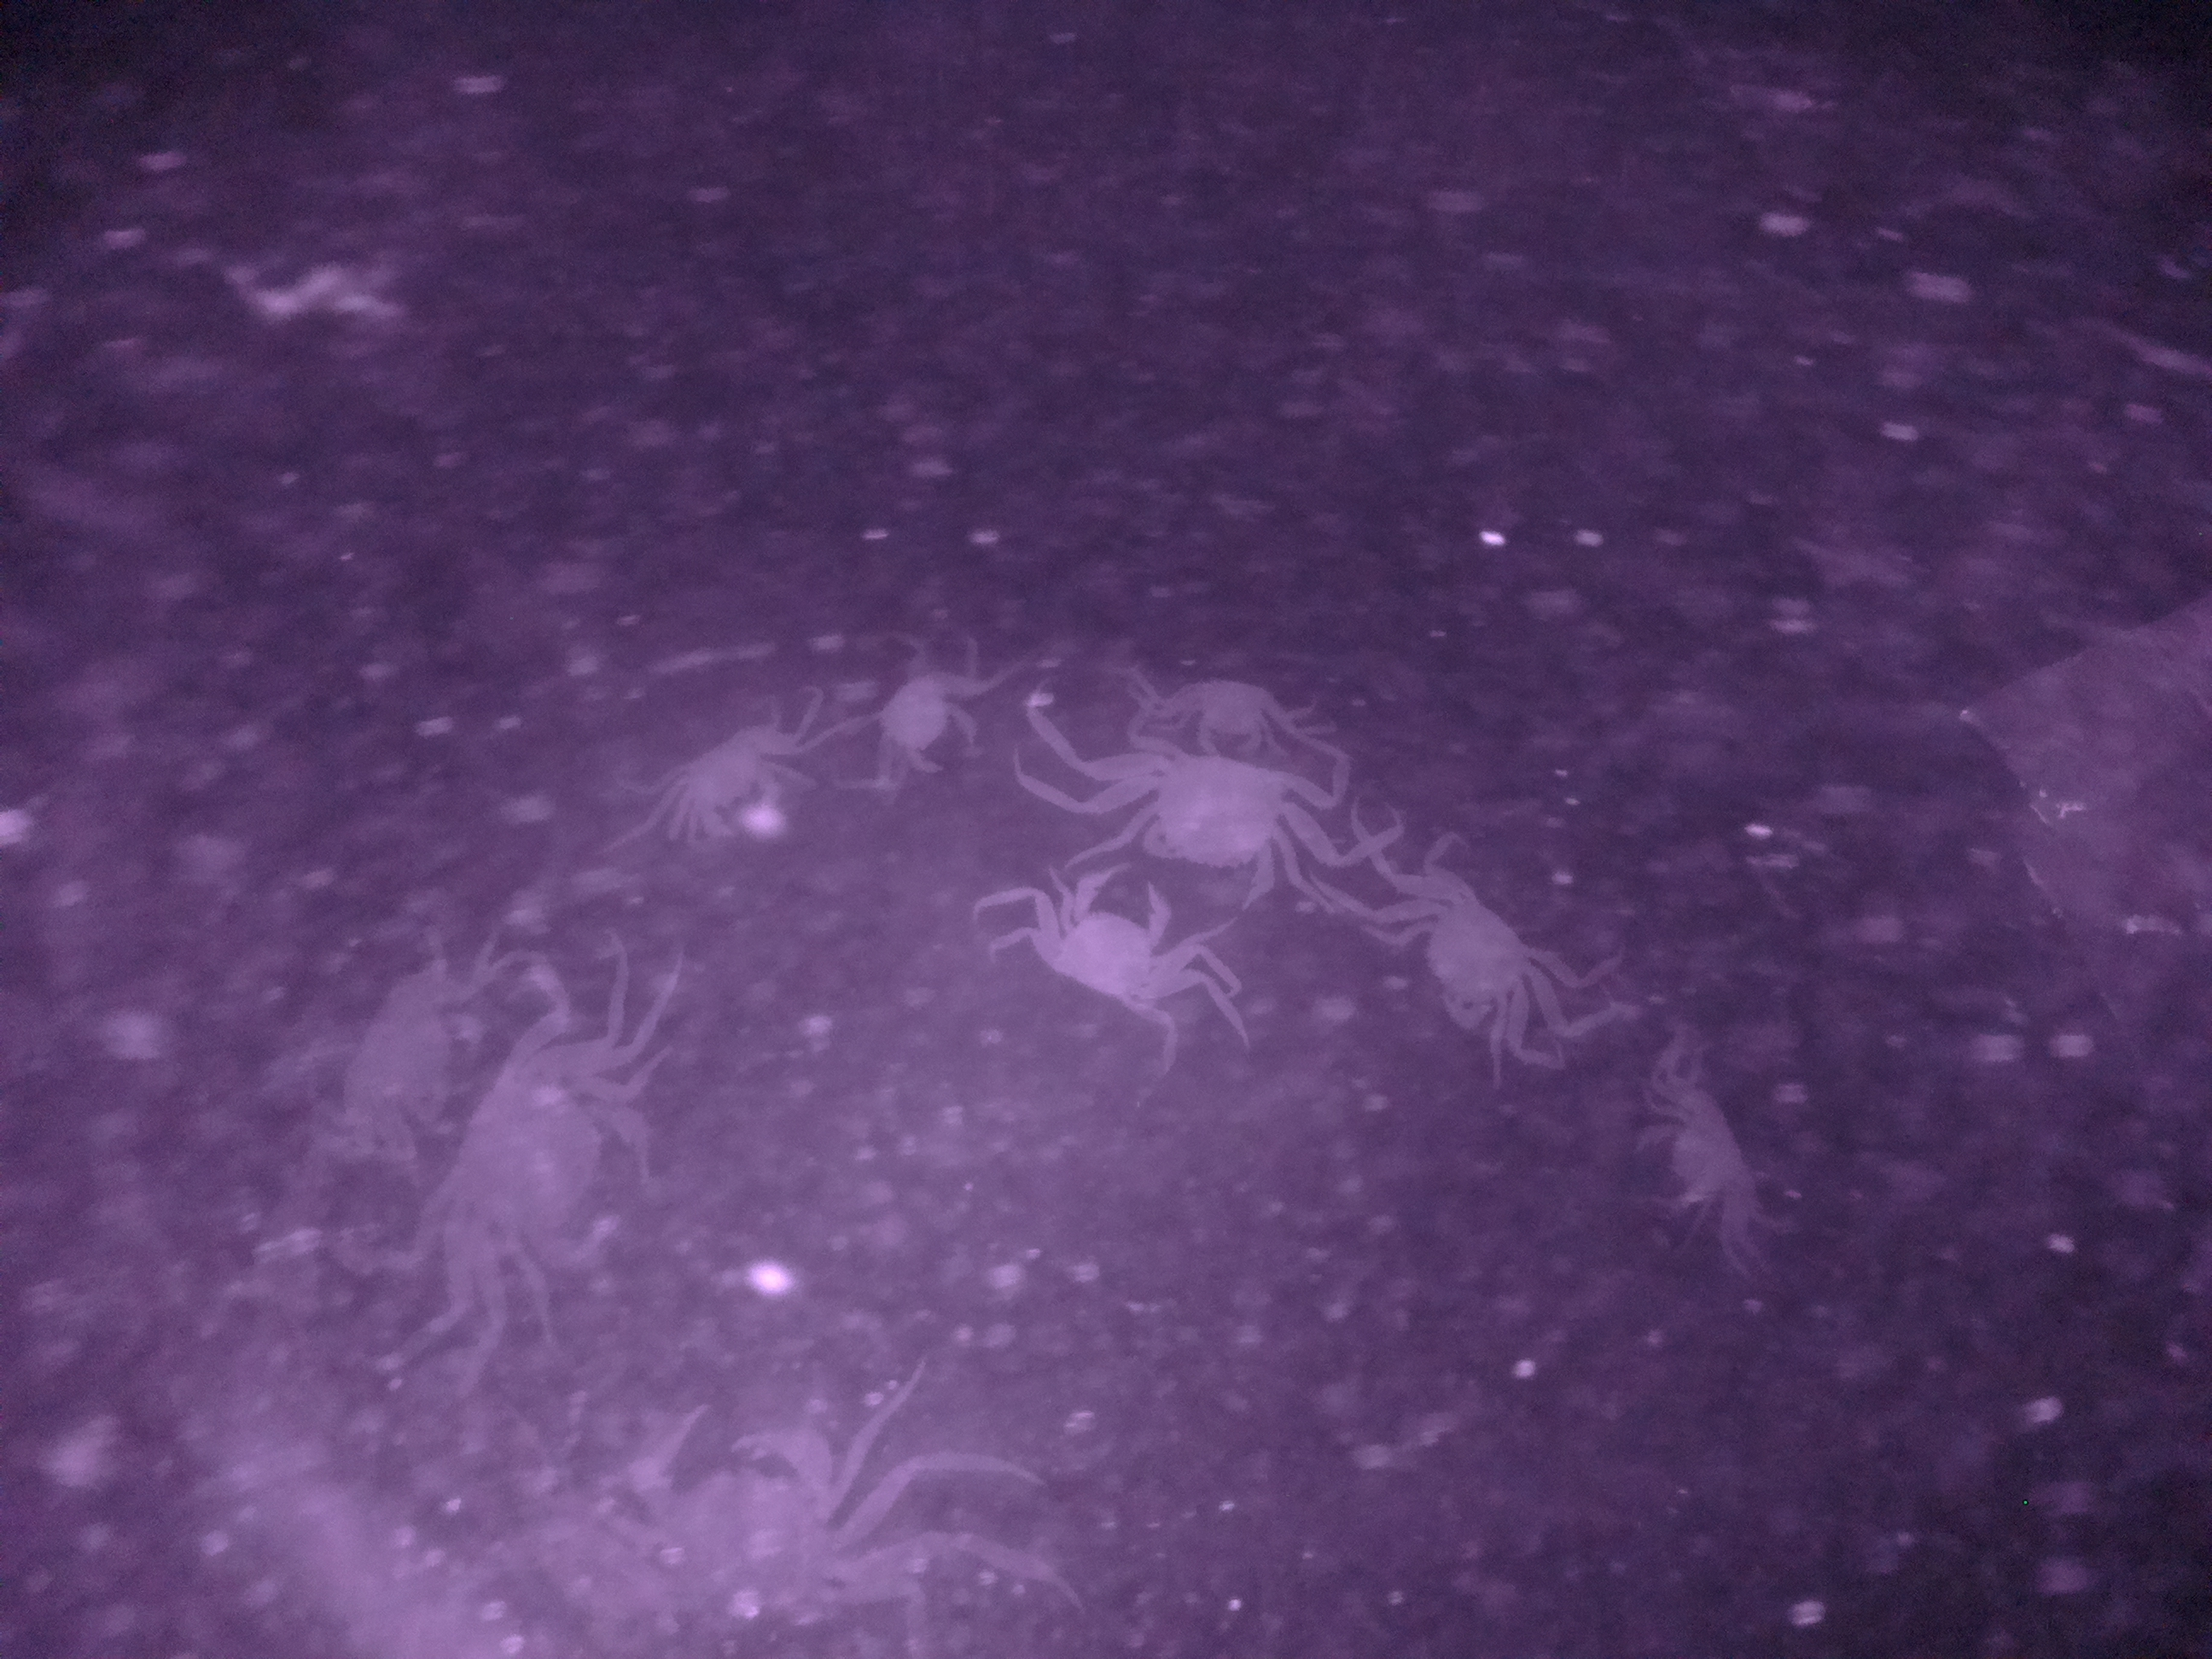Crab: (1089, 709, 1325, 915), (1003, 838, 1200, 1032), (1390, 849, 1554, 1047), (634, 709, 798, 852), (848, 643, 996, 793)
